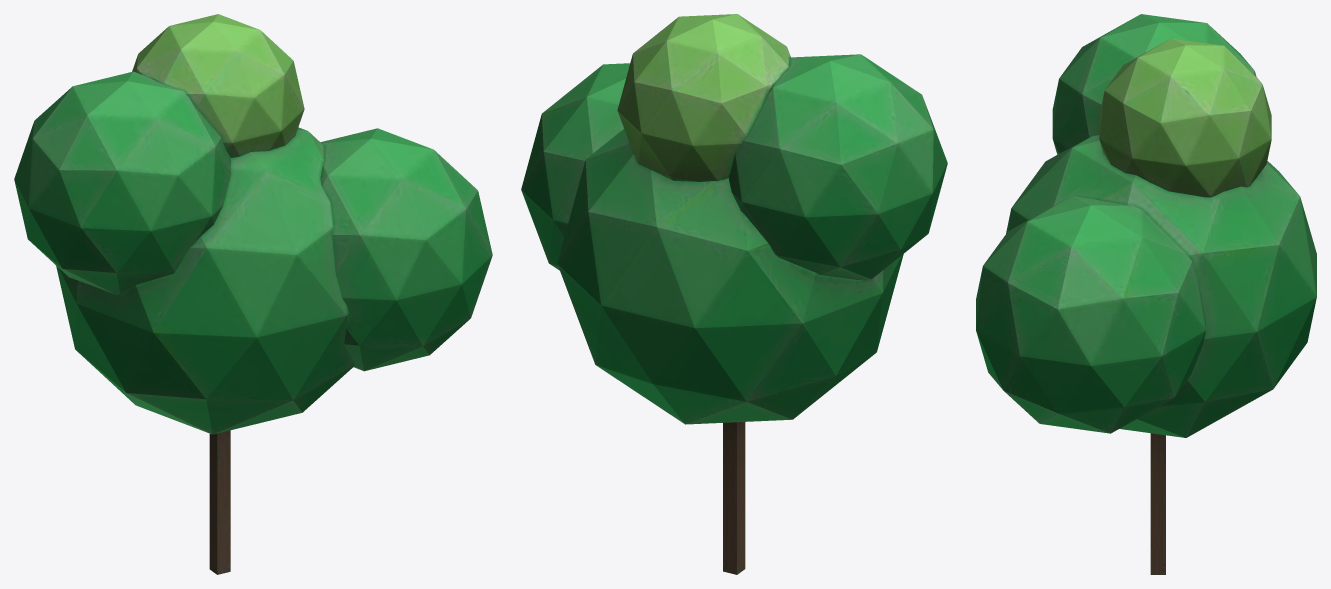
The model's file is Tree_poly02.gltf.
3 views of the same model, side by side, from view 1: azimuth 30°, elevation 25°; view 2: azimuth 150°, elevation 25°; view 3: azimuth 270°, elevation 25° (orthographic). The views are drawn at different scales.
Parts seen in each view (by area): view 1: metalTree_poly02; view 2: metalTree_poly02; view 3: metalTree_poly02.
Part boxes in pixels (<box>): metalTree_poly02: <box>14,14,492,574</box>; metalTree_poly02: <box>521,14,947,574</box>; metalTree_poly02: <box>976,14,1316,574</box>.
Bounding box in the file's own units: 73.5 × 91.15 × 53.15.
Materials: 1 (1 with a texture image).
